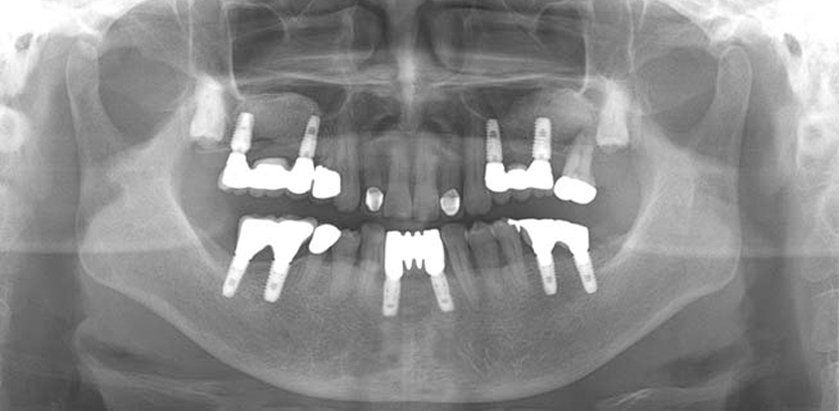canine: (442, 220, 475, 315), (354, 216, 383, 310), (462, 123, 492, 213), (330, 127, 361, 212)
incisor: (381, 128, 416, 222), (414, 126, 441, 222)
molar: (592, 78, 633, 156), (187, 71, 229, 147)
premolar: (492, 215, 534, 307), (472, 214, 502, 320), (328, 222, 359, 300)
